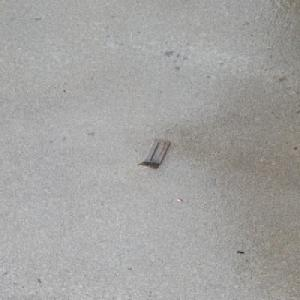MetalPart: (136, 139, 171, 169)
